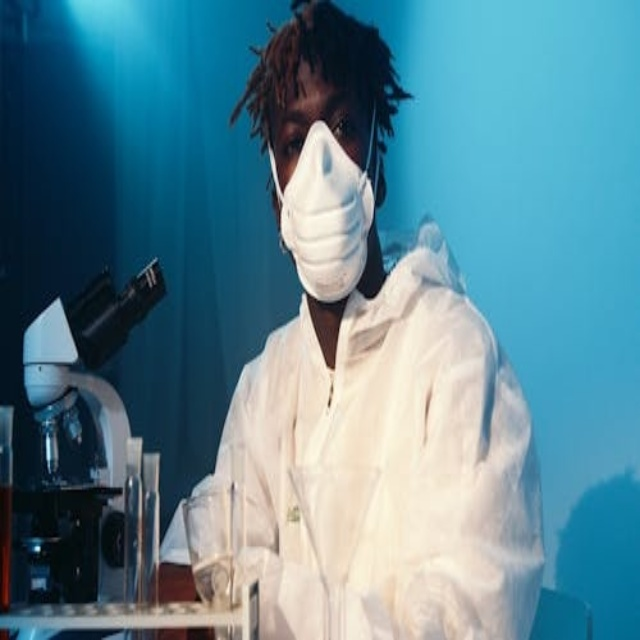Mascara: (272, 105, 378, 300)
Sin_gafas: (280, 100, 361, 162)
